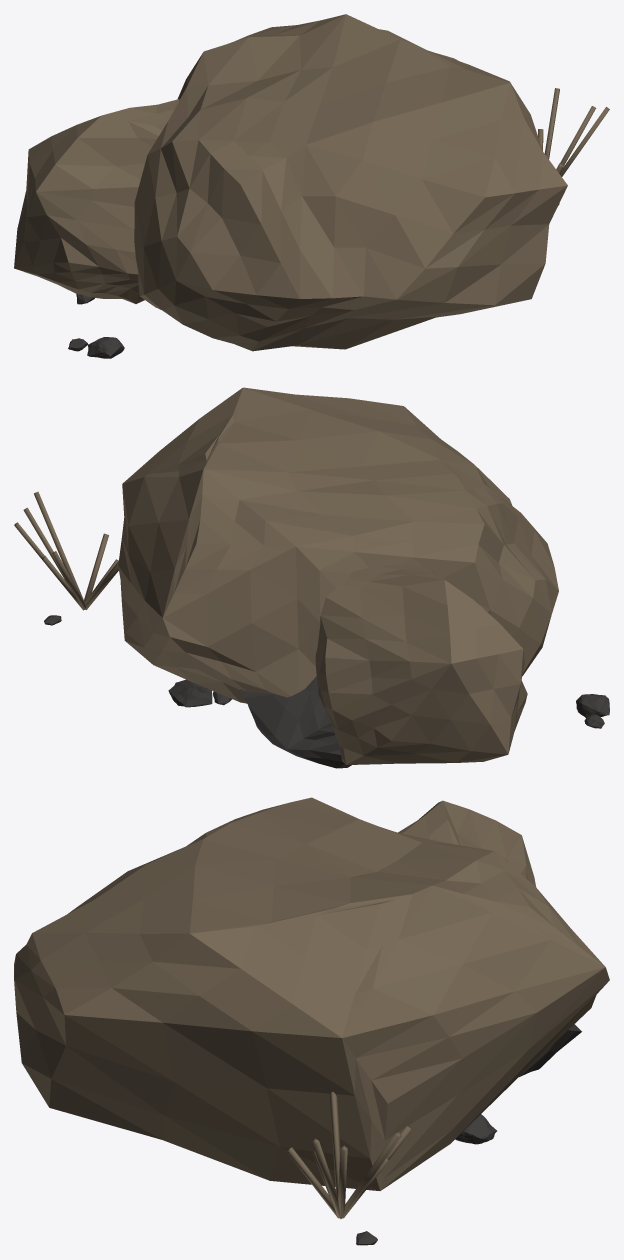
File: cover_rock_4.glb
The picture shows the model from 3 angles, top to bottom: view 1: azimuth 30°, elevation 25°; view 2: azimuth 150°, elevation 25°; view 3: azimuth 270°, elevation 25°; orthographic projection. The views are drawn at different scales.
Parts seen in each view (by area): view 1: rock_0, rock_1, grit_5; view 2: rock_0, rock_1, rock_2, grit_3, grit_5, weed_0; view 3: rock_0, rock_1, grit_3, weed_7, weed_1, rock_2.
Boxes of the visible parts, x1,y1,x2,y2 form: rock_0: (134,14,567,351); rock_1: (14,99,179,303); grit_5: (87,337,124,358); rock_0: (118,387,558,703); rock_1: (315,563,527,764); rock_2: (240,676,351,768); grit_3: (168,679,212,707); grit_5: (576,694,609,717); weed_0: (34,491,84,602); rock_0: (14,797,609,1190); rock_1: (398,800,535,886); grit_3: (455,1114,496,1144); weed_7: (341,1132,401,1218); weed_1: (329,1092,340,1196); rock_2: (519,1024,581,1076).
Size of the model in its own units: 2.47 by 0.94 by 1.94.
